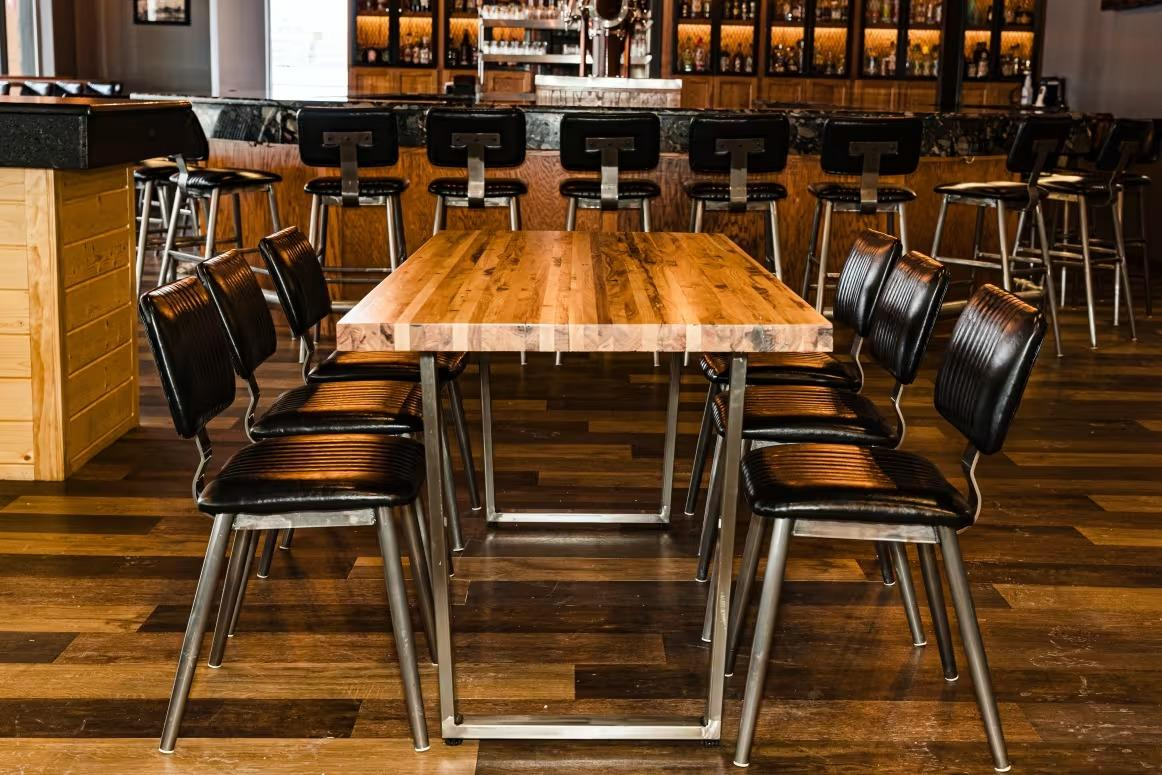Clean Table: (310, 194, 863, 424)
